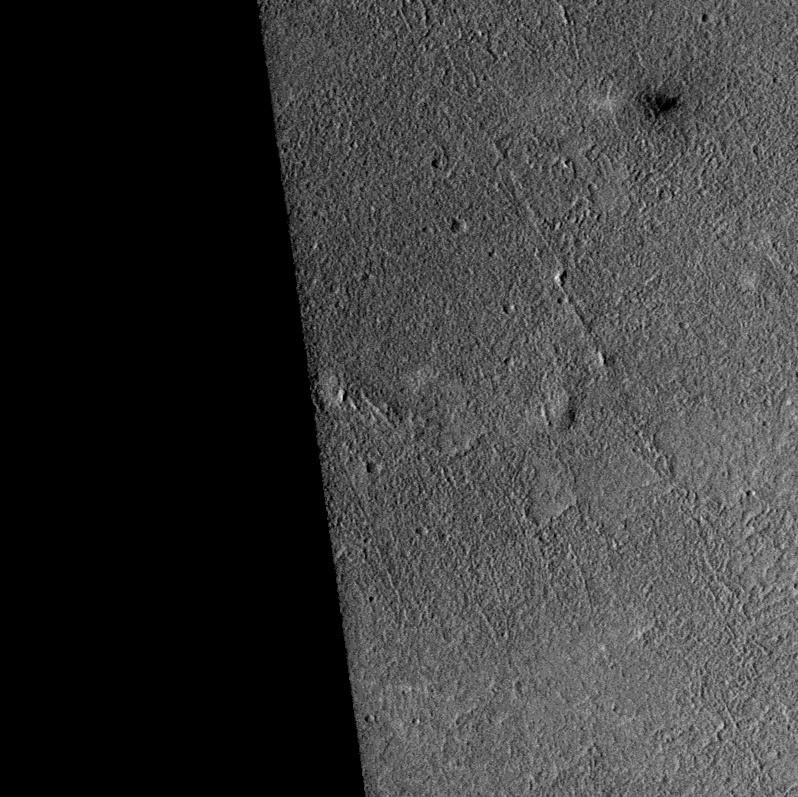dust_devil: (587, 87, 684, 125)
